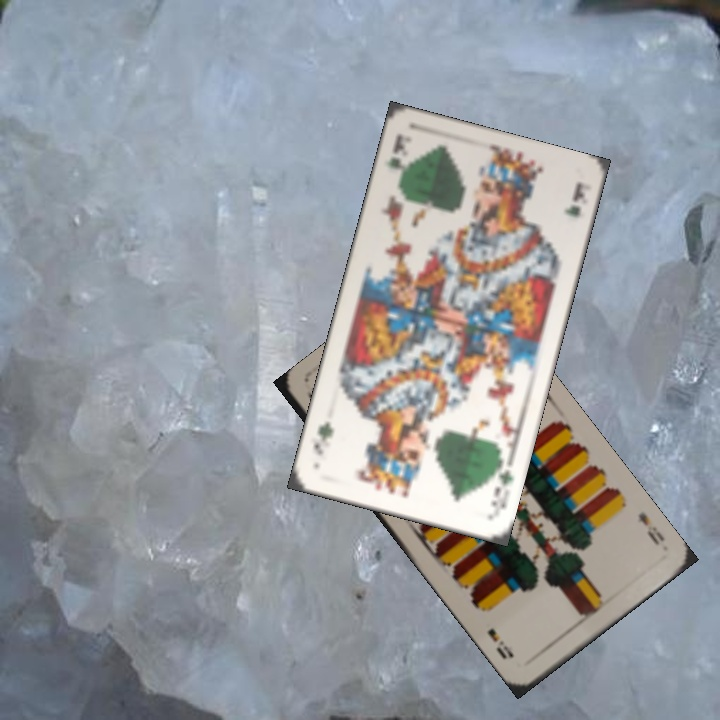E9: (632, 508, 667, 549)
GK: (487, 456, 517, 517), (380, 130, 408, 170)
